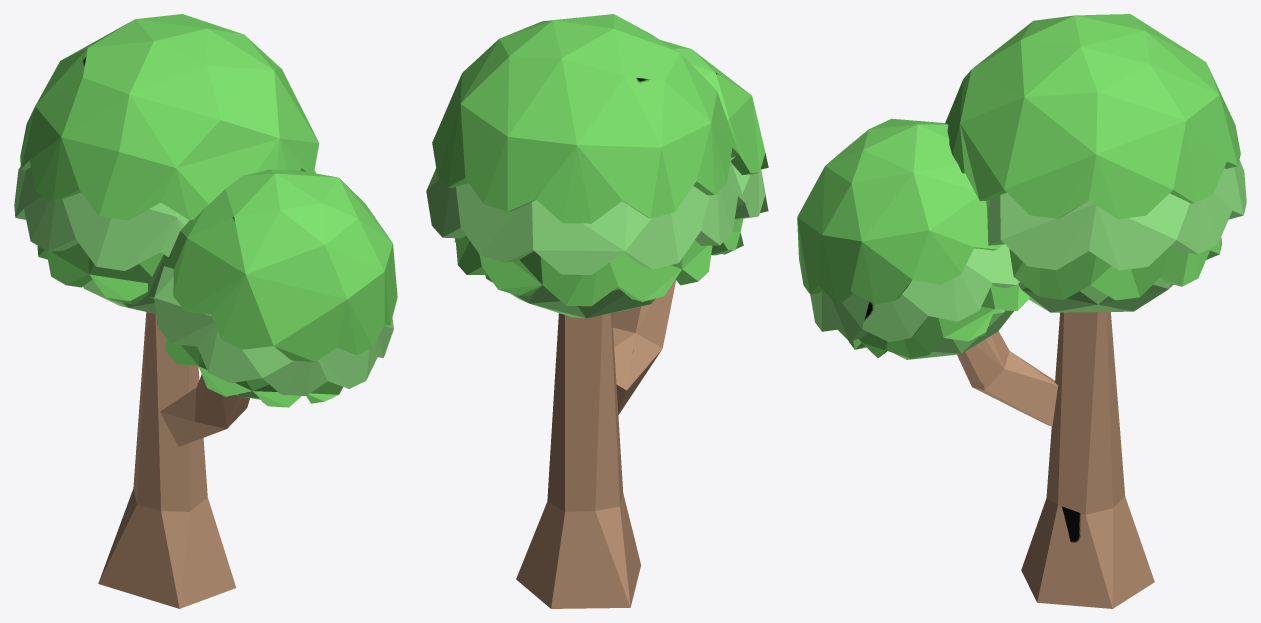
File: TREE #7.fbx
3 renders of one model, left to right at view 1: azimuth 30°, elevation 25°; view 2: azimuth 150°, elevation 25°; view 3: azimuth 270°, elevation 25°, orthographic.
Visible parts, largest first — view 1: seven; view 2: seven; view 3: seven.
Part boxes in pixels (box(x1,y1,x2,y2)): seven: box(14, 14, 397, 608); seven: box(426, 14, 768, 608); seven: box(797, 14, 1246, 608).
Size of the model in its own units: 532 by 1037 by 760.
1 material, 1 textured.
